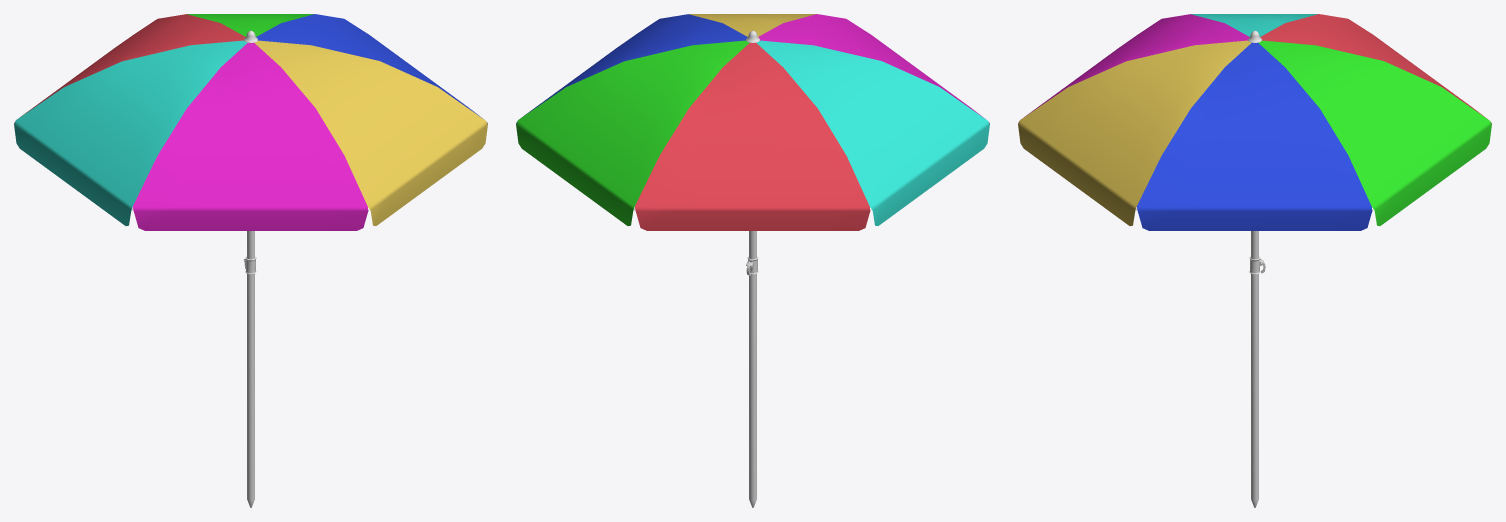
File: realumbrella.glb
3 views of the same model, side by side, from view 1: azimuth 30°, elevation 25°; view 2: azimuth 150°, elevation 25°; view 3: azimuth 270°, elevation 25° (orthographic).
Parts seen in each view (by area): view 1: Sphere.002, Cylinder, Cylinder.001; view 2: Sphere.002, Cylinder, Cylinder.001; view 3: Sphere.002, Cylinder, Cylinder.001.
Part boxes in pixels (bbox=[...]): Sphere.002: bbox=[14, 14, 487, 230]; Cylinder: bbox=[247, 274, 254, 507]; Cylinder.001: bbox=[244, 30, 257, 274]; Sphere.002: bbox=[516, 14, 989, 230]; Cylinder: bbox=[749, 274, 756, 507]; Cylinder.001: bbox=[746, 30, 759, 275]; Sphere.002: bbox=[1018, 14, 1491, 230]; Cylinder: bbox=[1251, 274, 1258, 507]; Cylinder.001: bbox=[1248, 30, 1265, 274].
Bounding box in the file's own units: 1.49 × 1.9 × 1.71.
